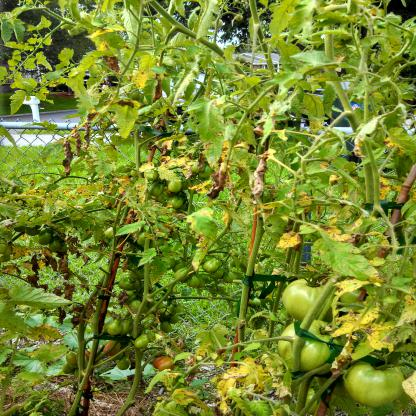tomato septoria leaf spot: (311, 233, 387, 285), (197, 104, 228, 172)
